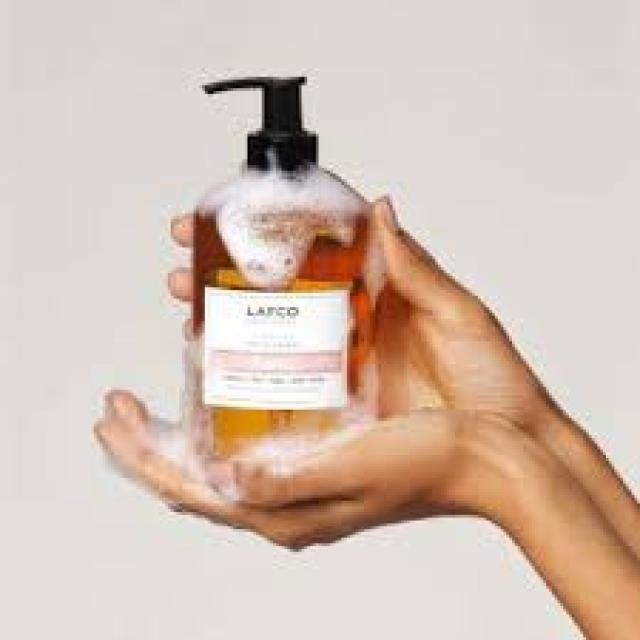liquid soap: (181, 59, 382, 457)
